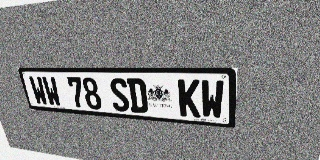7: (66, 77, 87, 109)
8: (81, 77, 103, 110)
D: (126, 78, 149, 113)
K: (178, 79, 200, 118)
S: (108, 78, 130, 112)
W: (201, 80, 224, 119), (41, 76, 62, 107), (28, 76, 49, 106)
